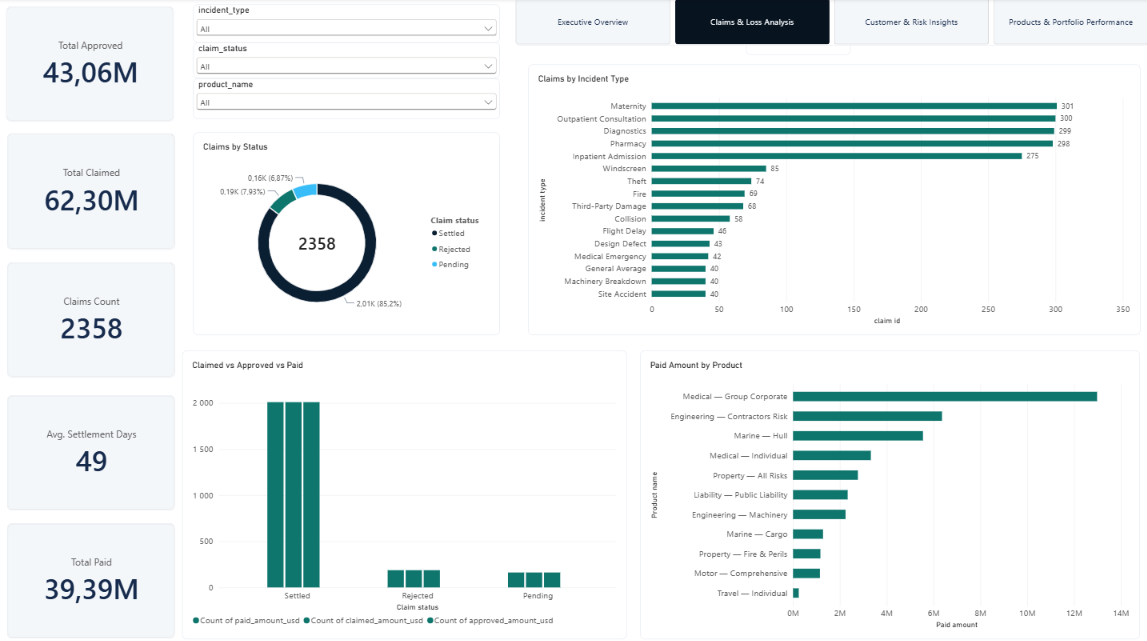

The page's visual inventory and layout, read from the dashboard file:
{"tool":"powerbi","page":{"name":"Claims & Loss Analysis","canvas":[1920,1080],"ordinal":1},"visuals":[{"type":"cardVisual","fields":{"Data":["public raw_claims.Avg. Settlement Days"]},"box":[12.8,663.2,280,192],"z":0},{"type":"cardVisual","fields":{"Data":["public raw_claims.Claims Count"]},"box":[12.8,441.2,280,192],"z":1000},{"type":"cardVisual","fields":{"Data":["public raw_claims.Total Claimed"]},"box":[12.8,225.2,280,194],"z":2000},{"type":"cardVisual","fields":{"Data":["public raw_claims.Total Approved"]},"box":[12,14,280,192],"z":3000},{"type":"cardVisual","fields":{"Data":["public raw_claims.Total Paid"]},"box":[12.8,877.2,280,192],"z":4000},{"type":"donutChart","title":"Claims by Status","fields":{"Category":["public raw_claims.claim_status"],"Y":["CountNonNull(public raw_claims.claim_id)"]},"box":[324,224,512,338],"z":5000},{"type":"clusteredBarChart","title":"Claims by Incident Type","fields":{"Category":["public raw_claims.incident_type"],"Y":["CountNonNull(public raw_claims.claim_id)"]},"box":[884,110,1022,452],"z":6000},{"type":"clusteredColumnChart","title":"Claimed vs Approved vs Paid","fields":{"Category":["public raw_claims.claim_status"],"Y":["CountNonNull(public raw_claims.paid_amount_usd)","CountNonNull(public raw_claims.claimed_amount_usd)","CountNonNull(public raw_claims.approved_amount_usd)"]},"box":[306,588,742,482],"z":7000},{"type":"clusteredBarChart","title":"Paid Amount by Product","fields":{"Category":["public raw_products.product_name"],"Y":["Sum(public raw_claims.paid_amount_usd)"]},"box":[1070,588,834,482],"z":8000},{"type":"slicer","fields":{"Values":["public raw_claims.incident_month"]},"box":[1248,0,174,94],"z":9000},{"type":"slicer","fields":{"Values":["public raw_claims.claim_status"]},"box":[324.4,73.2,512,60],"z":10000},{"type":"slicer","fields":{"Values":["public raw_claims.incident_type"]},"box":[324.4,9.2,512,64],"z":11000},{"type":"slicer","fields":{"Values":["public raw_products.product_name"]},"box":[324.4,133.2,512,68],"z":12000},{"type":"pageNavigator","box":[862,0,1058,78],"z":13000}]}

Visuals, with their boxes in screenshot pixels (x1, y1, x2, y2), scaled from the page's 1920x1080 canvas onto the 1147x641 screenshot:
cardVisual - public raw_claims.Avg. Settlement Days: detection(8, 394, 175, 508)
cardVisual - public raw_claims.Claims Count: detection(8, 262, 175, 376)
cardVisual - public raw_claims.Total Claimed: detection(8, 134, 175, 249)
cardVisual - public raw_claims.Total Approved: detection(7, 8, 174, 122)
cardVisual - public raw_claims.Total Paid: detection(8, 521, 175, 635)
"Claims by Status" donutChart: detection(194, 133, 499, 334)
"Claims by Incident Type" clusteredBarChart: detection(528, 65, 1139, 334)
"Claimed vs Approved vs Paid" clusteredColumnChart: detection(183, 349, 626, 635)
"Paid Amount by Product" clusteredBarChart: detection(639, 349, 1137, 635)
slicer - public raw_claims.incident_month: detection(746, 0, 849, 56)
slicer - public raw_claims.claim_status: detection(194, 43, 500, 79)
slicer - public raw_claims.incident_type: detection(194, 5, 500, 43)
slicer - public raw_products.product_name: detection(194, 79, 500, 119)
pageNavigator: detection(515, 0, 1146, 46)
